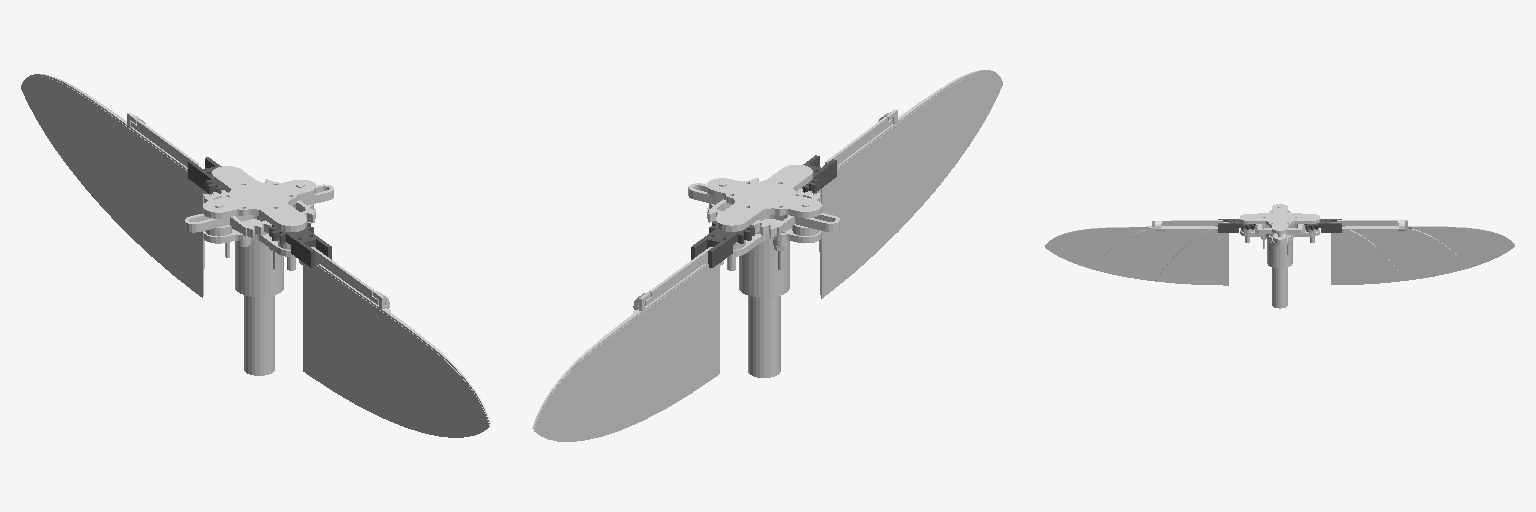
URDF robot description (SingleThrustFlapper-V2):
<?xml version="1.0" encoding="utf-8"?>
<!-- This URDF was automatically created by SolidWorks to URDF Exporter! Originally created by Stephen Brawner (brawner@gmail.com) 
     Commit Version: 1.6.0-4-g7f85cfe  Build Version: 1.6.7995.38578
     For more information, please see http://wiki.ros.org/sw_urdf_exporter -->
<robot
  name="SingleThrustFlapper-V2">
  <link
    name="base_link">
    <inertial>
      <origin
        xyz="-3.20729626000511E-06 1.30823101995563E-05 0.0298048281551491"
        rpy="0 0 0" />
      <mass
        value="0.00375226526133994" />
      <inertia
        ixx="1.57236813440058E-07"
        ixy="-1.41010308892605E-11"
        ixz="-3.42780971906297E-12"
        iyy="1.30149181128724E-07"
        iyz="-9.50953773255945E-11"
        izz="2.02159809533714E-07" />
    </inertial>
    <visual>
      <origin
        xyz="0 0 0"
        rpy="0 0 0" />
      <geometry>
        <mesh
          filename="../meshes/base_link.STL" />
      </geometry>
      <material
        name="">
        <color
          rgba="0.894117647058823 0.894117647058823 0.894117647058823 1" />
      </material>
    </visual>
    <collision>
      <origin
        xyz="0 0 0"
        rpy="0 0 0" />
      <geometry>
        <mesh
          filename="../meshes/base_link.STL" />
      </geometry>
    </collision>
  </link>
  <link
    name="left_gear">
    <inertial>
      <origin
        xyz="0.00482114091468307 0.000386631569952528 3.56836616447788E-06"
        rpy="0 0 0" />
      <mass
        value="0.000180370596145377" />
      <inertia
        ixx="9.82586810253989E-10"
        ixy="3.10853394046688E-10"
        ixz="-2.0145999314952E-12"
        iyy="4.25828881994327E-09"
        iyz="2.3007807932172E-13"
        izz="3.70446693621275E-09" />
    </inertial>
    <visual>
      <origin
        xyz="0 0 0"
        rpy="0 0 0" />
      <geometry>
        <mesh
          filename="../meshes/left_gear.STL" />
      </geometry>
      <material
        name="">
        <color
          rgba="0.43921568627451 0.43921568627451 0.43921568627451 1" />
      </material>
    </visual>
    <collision>
      <origin
        xyz="0 0 0"
        rpy="0 0 0" />
      <geometry>
        <mesh
          filename="../meshes/left_gear.STL" />
      </geometry>
    </collision>
  </link>
  <joint
    name="left_flapping"
    type="revolute">
    <origin
      xyz="0 0.014 0.038"
      rpy="1.5708 0 1.5708" />
    <parent
      link="base_link" />
    <child
      link="left_gear" />
    <axis
      xyz="0 -1 0" />
    <limit
      lower="-1.5"
      upper="1.5"
      effort="0"
      velocity="0" />
  </joint>
  <link
    name="left_wing">
    <inertial>
      <origin
        xyz="0.0012356672871606 -0.00665314057662089 -0.0020037835419876"
        rpy="0 0 0" />
      <mass
        value="0.000746677777710921" />
      <inertia
        ixx="2.43204267237174E-07"
        ixy="4.01792183837717E-10"
        ixz="3.98518265683764E-13"
        iyy="2.18904158731578E-07"
        iyz="-3.51622125614154E-11"
        izz="2.46225436439057E-08" />
    </inertial>
    <visual>
      <origin
        xyz="0 0 0"
        rpy="0 0 0" />
      <geometry>
        <mesh
          filename="../meshes/left_wing.STL" />
      </geometry>
      <material
        name="">
        <color
          rgba="0.894117647058823 0.894117647058823 0.894117647058823 1" />
      </material>
    </visual>
    <collision>
      <origin
        xyz="0 0 0"
        rpy="0 0 0" />
      <geometry>
        <mesh
          filename="../meshes/left_wing.STL" />
      </geometry>
    </collision>
  </link>
  <joint
    name="left_feathering"
    type="revolute">
    <origin
      xyz="0.008 -0.001 0"
      rpy="0 1.5701 0" />
    <parent
      link="left_gear" />
    <child
      link="left_wing" />
    <axis
      xyz="0 0 -1" />
    <limit
      lower="-0.3"
      upper="0.3"
      effort="0"
      velocity="0" />
  </joint>
  <link
    name="right_gear">
    <inertial>
      <origin
        xyz="-0.00482076205208311 0.000386631569936222 6.0544939353542E-05"
        rpy="0 0 0" />
      <mass
        value="0.000180370596145377" />
      <inertia
        ixx="9.83014583951041E-10"
        ixy="-3.10828966079199E-10"
        ixz="3.41792969681776E-11"
        iyy="4.25828881994116E-09"
        iyz="3.90376475868879E-12"
        izz="3.7040391625178E-09" />
    </inertial>
    <visual>
      <origin
        xyz="0 0 0"
        rpy="0 0 0" />
      <geometry>
        <mesh
          filename="../meshes/right_gear.STL" />
      </geometry>
      <material
        name="">
        <color
          rgba="0.43921568627451 0.43921568627451 0.43921568627451 1" />
      </material>
    </visual>
    <collision>
      <origin
        xyz="0 0 0"
        rpy="0 0 0" />
      <geometry>
        <mesh
          filename="../meshes/right_gear.STL" />
      </geometry>
    </collision>
  </link>
  <joint
    name="right_flapping"
    type="revolute">
    <origin
      xyz="0 -0.014 0.038"
      rpy="1.5708 0 1.5708" />
    <parent
      link="base_link" />
    <child
      link="right_gear" />
    <axis
      xyz="0 -1 0" />
    <limit
      lower="-1.5"
      upper="1.5"
      effort="0"
      velocity="0" />
  </joint>
  <link
    name="right_wing">
    <inertial>
      <origin
        xyz="-0.00123578322296596 -0.00665598063945375 0.0271830469085974"
        rpy="0 0 0" />
      <mass
        value="0.000373354651397154" />
      <inertia
        ixx="1.21651051064403E-07"
        ixy="-2.01575307513794E-10"
        ixz="1.48532642414841E-10"
        iyy="1.09484491426939E-07"
        iyz="-5.455525285816E-09"
        izz="1.23277529663244E-08" />
    </inertial>
    <visual>
      <origin
        xyz="0 0 0"
        rpy="0 0 0" />
      <geometry>
        <mesh
          filename="../meshes/right_wing.STL" />
      </geometry>
      <material
        name="">
        <color
          rgba="0.894117647058823 0.894117647058823 0.894117647058823 1" />
      </material>
    </visual>
    <collision>
      <origin
        xyz="0 0 0"
        rpy="0 0 0" />
      <geometry>
        <mesh
          filename="../meshes/right_wing.STL" />
      </geometry>
    </collision>
  </link>
  <joint
    name="right_feathering"
    type="revolute">
    <origin
      xyz="-0.0079994 -0.001 0.00010047"
      rpy="0 -1.5582 0" />
    <parent
      link="right_gear" />
    <child
      link="right_wing" />
    <axis
      xyz="0 0 1" />
    <limit
      lower="-0.3"
      upper="0.3"
      effort="0"
      velocity="0" />
  </joint>
</robot>

--- What the picture shows (computed from the rendered views, not written in the file) ---
The picture shows the robot from 3 angles, left to right: view 1: azimuth 30°, elevation 25°; view 2: azimuth 150°, elevation 25°; view 3: azimuth 270°, elevation 25°; orthographic projection.
Robot: SingleThrustFlapper-V2 — 5 links, 4 joints (4 revolute); root link base_link; default pose: every joint at zero.
Links seen in each view (by area): view 1: right_wing, left_wing, base_link, right_gear, left_gear; view 2: left_wing, right_wing, base_link, left_gear, right_gear; view 3: left_wing, right_wing, base_link.
Boxes of the visible links, x1,y1,x2,y2 form: right_wing: (299,247,490,437); left_wing: (21,74,211,297); base_link: (185,166,333,375); right_gear: (269,223,331,267); left_gear: (188,157,223,193); left_wing: (532,247,723,441); right_wing: (813,70,1002,298); base_link: (688,165,839,377); left_gear: (691,222,754,267); right_gear: (802,155,836,192); left_wing: (1331,220,1514,284); right_wing: (1045,220,1228,285); base_link: (1240,204,1319,308).
Bounding box of the posed robot: 0.0373 × 0.2046 × 0.0423 m (x, y, z).
Meshes: 5 distinct files referenced, 5 mesh visuals loaded (5 binary STL).
